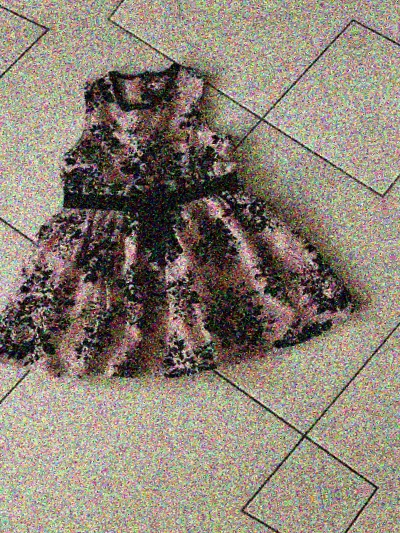Dress: (0, 31, 384, 422), (380, 0, 400, 352)
